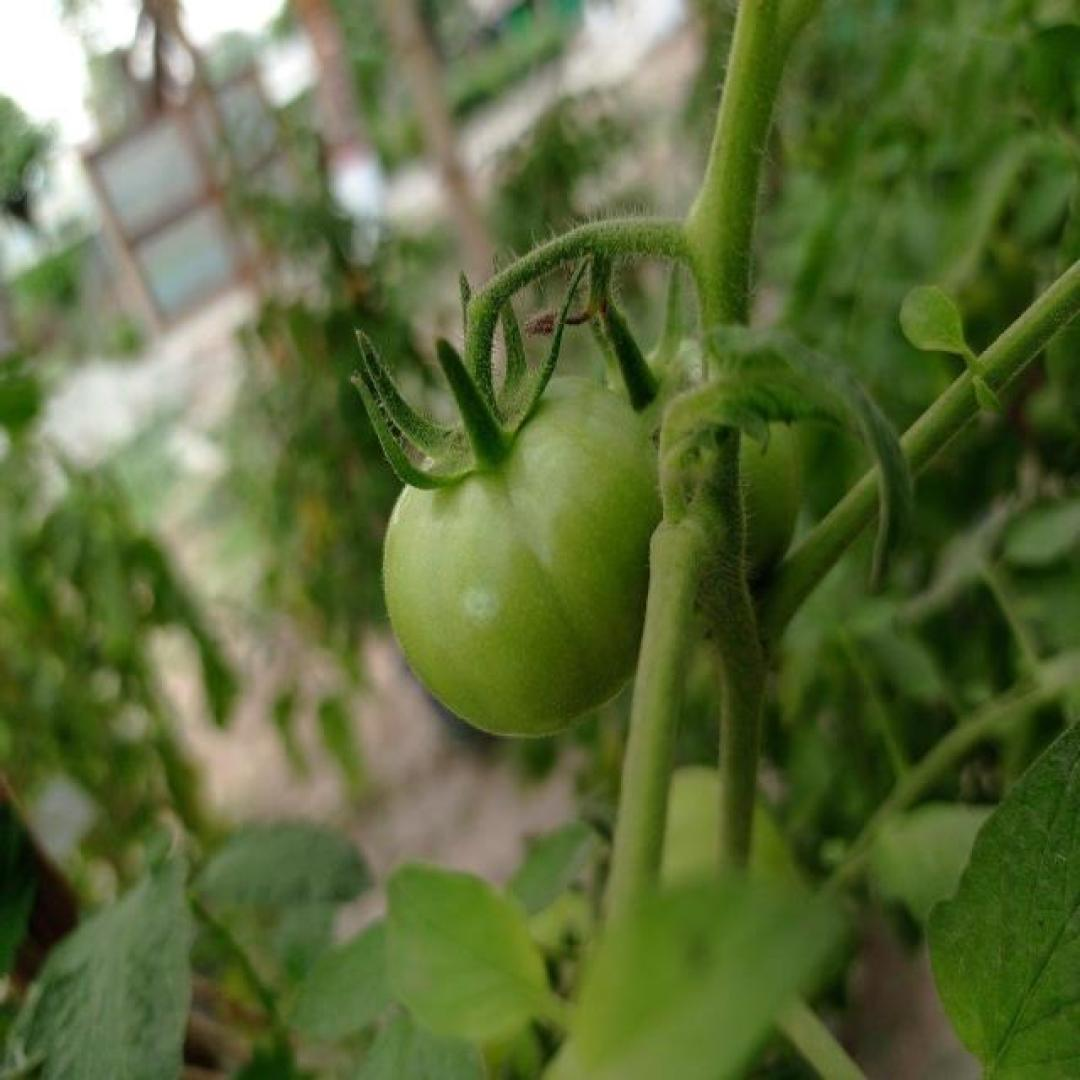mentah: (378, 380, 678, 744)
